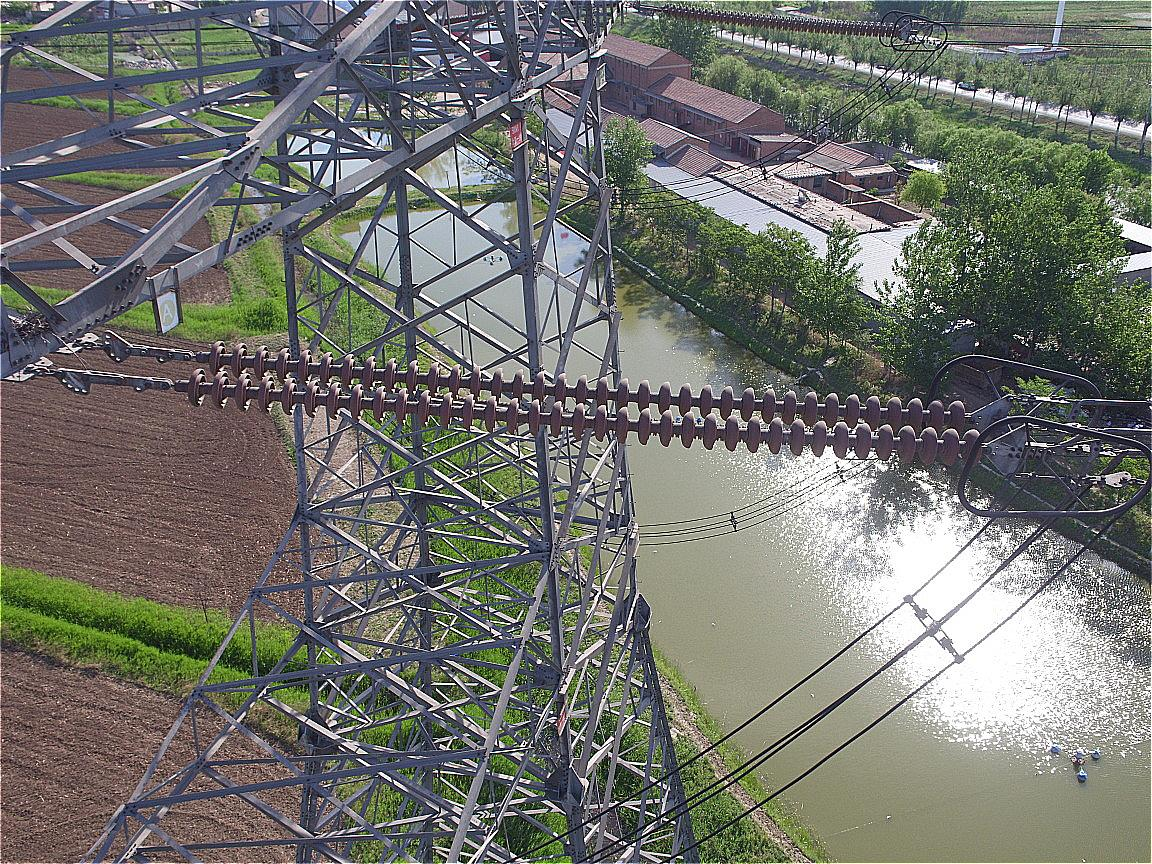insultor1: (188, 341, 988, 466)
insultor2: (665, 3, 901, 38)
